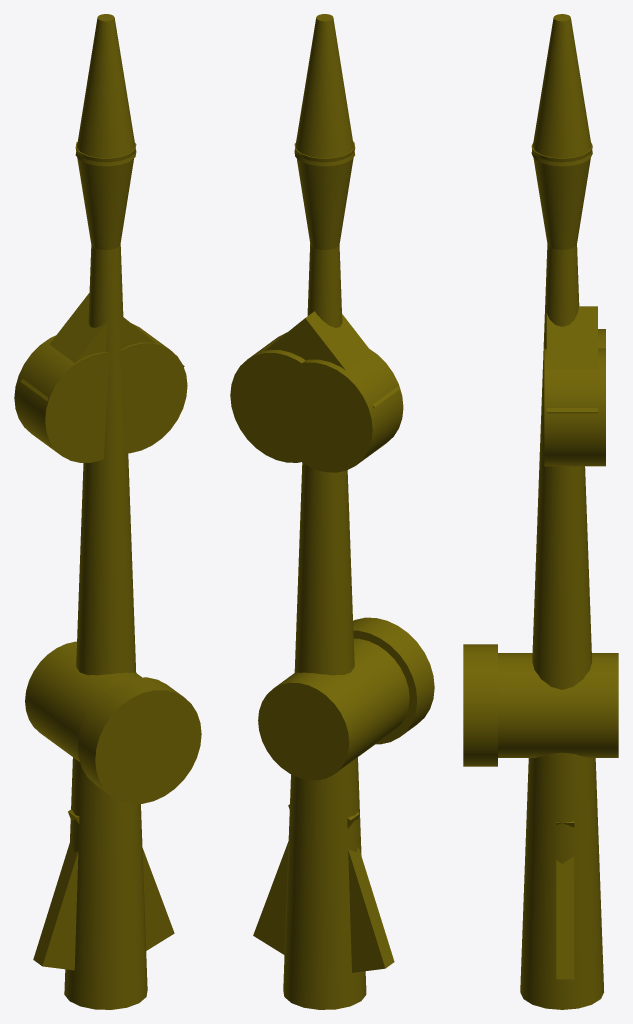
Rendered from hour.obj.
3 renders of one model, left to right at view 1: azimuth 30°, elevation 25°; view 2: azimuth 150°, elevation 25°; view 3: azimuth 270°, elevation 25°, orthographic.
Parts seen in each view (by area): view 1: ???_1, ???.2_2, ???.4, ???.3, ???.1, ???.1_2, ???.2, ???.1_1, ???, ???.2_1; view 2: ???_1, ???.1_2, ???.4, ???.3, ???.1, ???.2, ???.2_2, ???.1_1, ???, ???.2_1; view 3: ???_1, ???.1_2, ???.3, ???.1, ???.2_2, ???.2, ???, ???.2_1.
Boxes of the visible parts, x1,y1,x2,y2 form: ???_1: [64, 244, 147, 1009]; ???.2_2: [77, 677, 201, 803]; ???.4: [14, 335, 146, 462]; ???.3: [85, 323, 187, 453]; ???.1: [75, 14, 136, 166]; ???.1_2: [25, 641, 141, 761]; ???.2: [75, 142, 136, 249]; ???.1_1: [33, 840, 78, 970]; ???: [20, 293, 184, 400]; ???.2_1: [68, 809, 174, 950]; ???_1: [283, 243, 366, 1009]; ???.1_2: [258, 638, 409, 780]; ???.4: [270, 349, 403, 472]; ???.3: [230, 332, 332, 462]; ???.1: [294, 14, 354, 166]; ???.2: [294, 141, 355, 249]; ???.2_2: [353, 617, 434, 744]; ???.1_1: [288, 804, 394, 972]; ???: [264, 311, 399, 408]; ???.2_1: [253, 812, 359, 954]; ???_1: [520, 244, 603, 1009]; ???.1_2: [498, 653, 618, 757]; ???.3: [544, 348, 605, 466]; ???.1: [531, 14, 592, 166]; ???.2_2: [463, 644, 497, 766]; ???.2: [531, 142, 592, 249]; ???: [546, 306, 597, 413]; ???.2_1: [556, 856, 574, 979].
Size of the model in its own units: 3.34 by 21.85 by 3.16.
